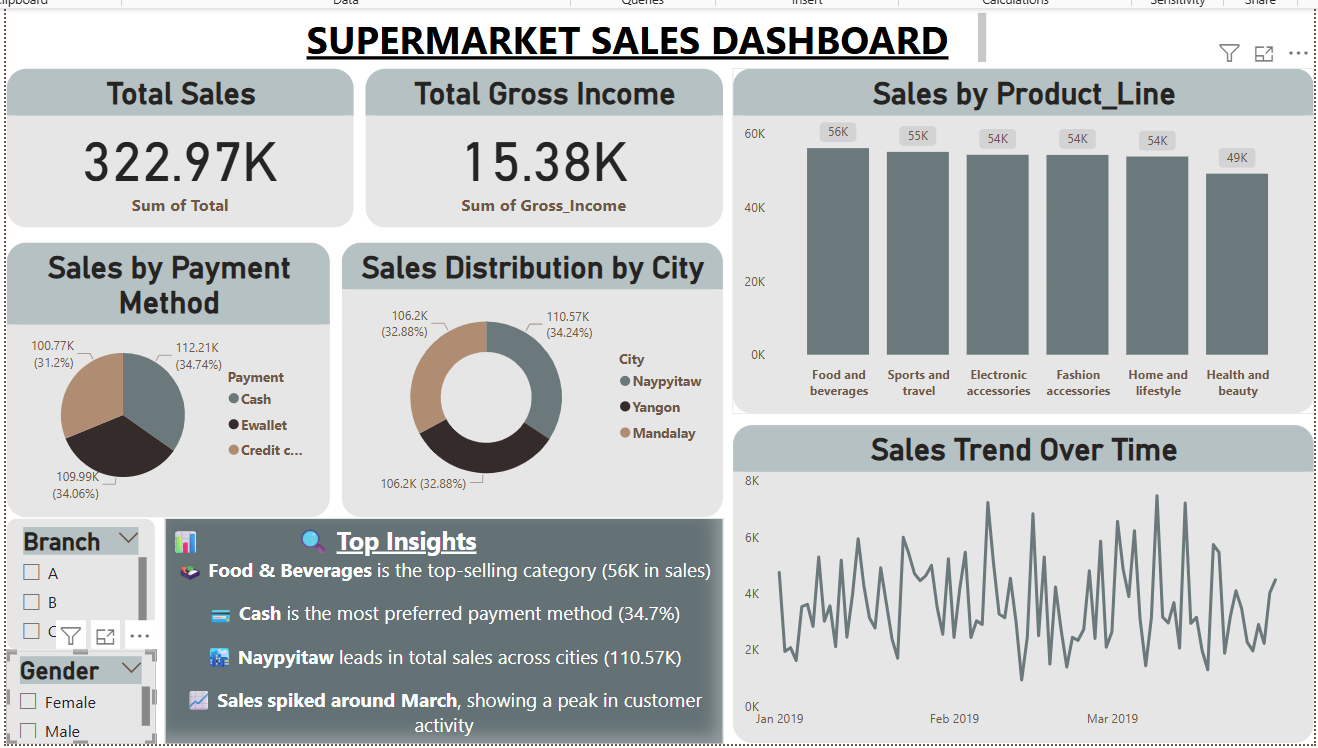

The page's visual inventory and layout, read from the dashboard file:
{"tool":"powerbi","page":{"name":"Page 1","canvas":[1280,720],"ordinal":0},"visuals":[{"type":"card","title":"Total Sales","fields":{"Values":["Sum(supermarket_sales - CLEANED.Total)"]},"box":[0,58.7,341.2,156.5],"z":0},{"type":"card","title":"Total Gross Income","fields":{"Values":["Sum(supermarket_sales - CLEANED.Gross_Income)"]},"box":[351,58.7,351,156.5],"z":1000},{"type":"columnChart","title":"Sales by Product_Line","fields":{"Category":["supermarket_sales - CLEANED.Product_Line"],"Y":["Sum(supermarket_sales - CLEANED.Total)"]},"box":[710.5,58.7,569.8,338.7],"z":2000},{"type":"donutChart","title":"Sales Distribution by City","fields":{"Category":["supermarket_sales - CLEANED.City"],"Y":["Sum(supermarket_sales - CLEANED.Total)"]},"box":[327.7,228.7,374.2,270.2],"z":3000},{"type":"lineChart","title":"Sales Trend Over Time","fields":{"Category":["supermarket_sales - CLEANED.Date"],"Y":["Sum(supermarket_sales - CLEANED.Total)"],"Series":["supermarket_sales - CLEANED.Product_Line"]},"box":[710.5,407.2,569.8,313],"z":4000},{"type":"pieChart","title":"Sales by Payment Method","fields":{"Category":["supermarket_sales - CLEANED.Payment"],"Y":["Sum(supermarket_sales - CLEANED.Total)"]},"box":[0,228.7,317.9,270.2],"z":5000},{"type":"slicer","fields":{"Values":["supermarket_sales - CLEANED.Gender"]},"box":[0,628.5,146.7,91.7],"z":6000},{"type":"slicer","fields":{"Values":["supermarket_sales - CLEANED.Branch"]},"box":[0,498.9,146.7,129.6],"z":7000},{"type":"textbox","box":[260.5,0,703.1,58.7],"z":8000},{"type":"textbox","box":[155.3,498.9,546.6,221.3],"z":9000}]}

Visuals, with their boxes on the page's 1280x720 design canvas (x1, y1, x2, y2). These are canvas units, not pixel positions in the 1318x748 screenshot, which may show the page scaled, cropped or inside an application window:
"Total Sales" card: left=0, top=59, right=341, bottom=215
"Total Gross Income" card: left=351, top=59, right=702, bottom=215
"Sales by Product_Line" columnChart: left=710, top=59, right=1280, bottom=397
"Sales Distribution by City" donutChart: left=328, top=229, right=702, bottom=499
"Sales Trend Over Time" lineChart: left=710, top=407, right=1280, bottom=720
"Sales by Payment Method" pieChart: left=0, top=229, right=318, bottom=499
slicer - supermarket_sales - CLEANED.Gender: left=0, top=628, right=147, bottom=720
slicer - supermarket_sales - CLEANED.Branch: left=0, top=499, right=147, bottom=628
textbox: left=260, top=0, right=964, bottom=59
textbox: left=155, top=499, right=702, bottom=720
